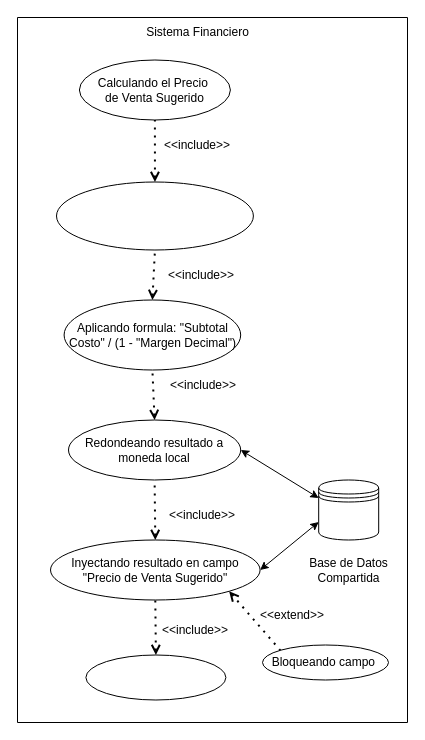
Image size: 425x740. Some labels were removed from this diagram. Here are the shapes that lost their labels. From the top down, the centre of each, then its label:
the point at 154,215: Detectando campo "Margen de ganancia" registrado correctamente
the point at 155,677: Desplegando resultado final
